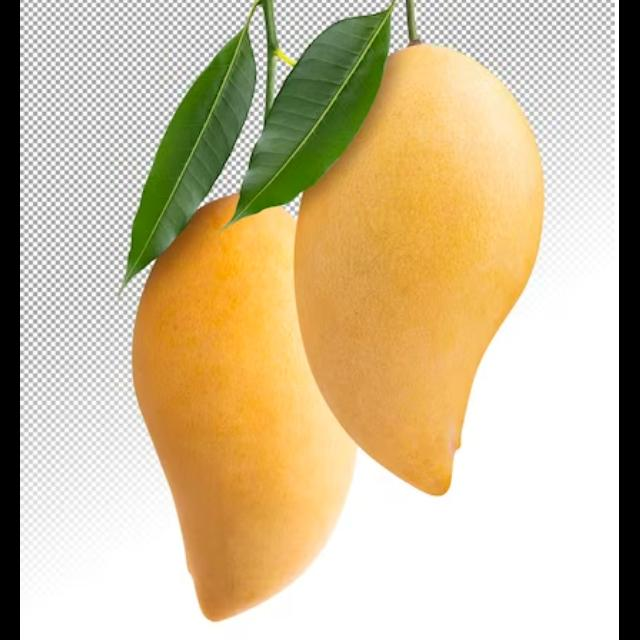mango: (294, 35, 543, 501), (124, 188, 364, 625)
